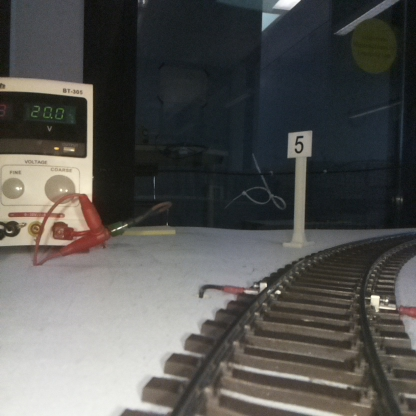white-info-5: (288, 131, 311, 246)
